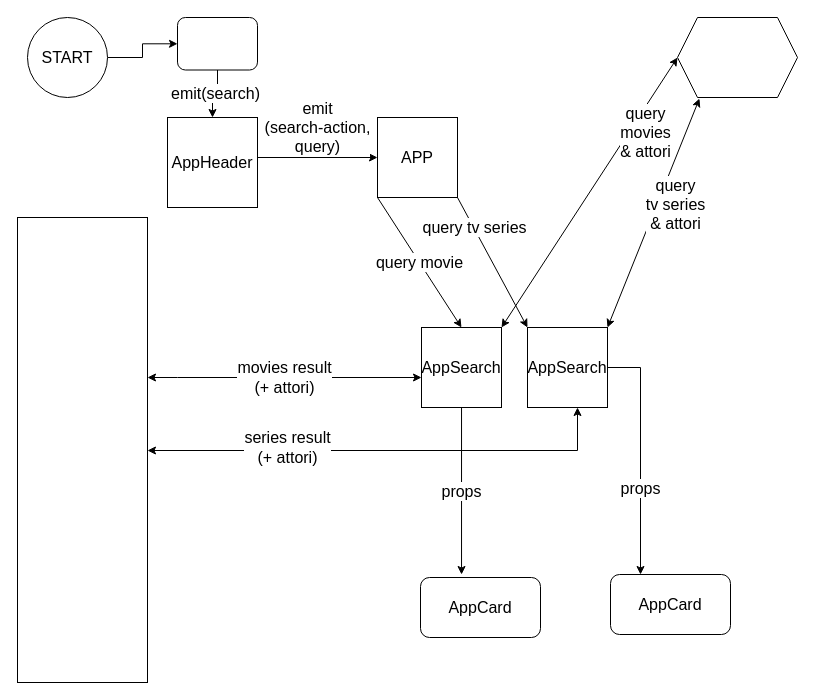
The diagram is 815 pixels wide and 700 high, and some of its shapes have lost their labels. Each missing label, with the box of its shape:
API: (676, 16, 798, 98)
SearchBar: (176, 16, 258, 70)
STATE(store.js) : isLoading? movies: [] series: [] baseUri apiKey: (16, 216, 148, 682)
